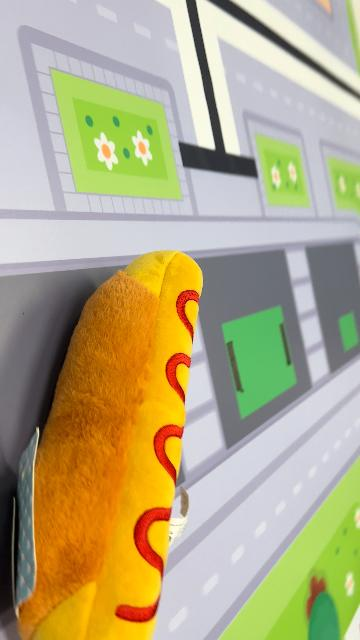hotdog: (15, 250, 206, 638)
